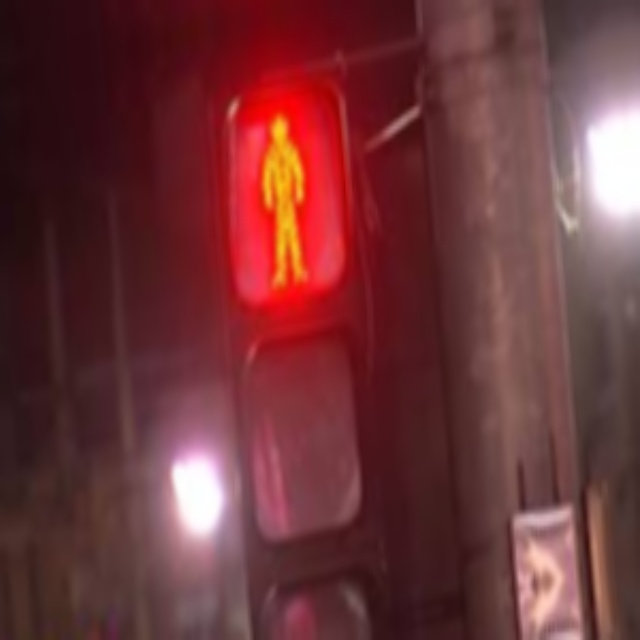red_light: (216, 69, 361, 319)
